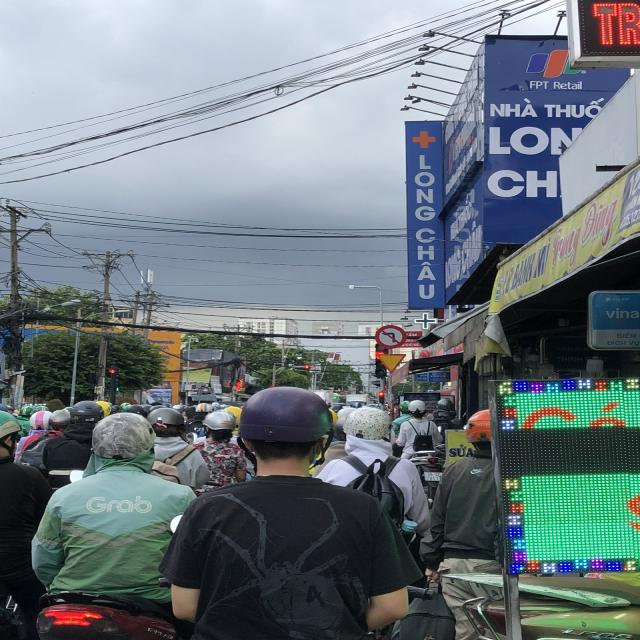Bien bao cam re trai: (371, 322, 411, 351)
Bien bao giao nhau voi duong uu tien: (373, 352, 407, 376)
